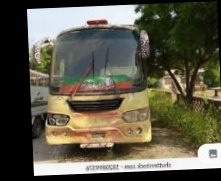bus: (43, 16, 154, 155)
